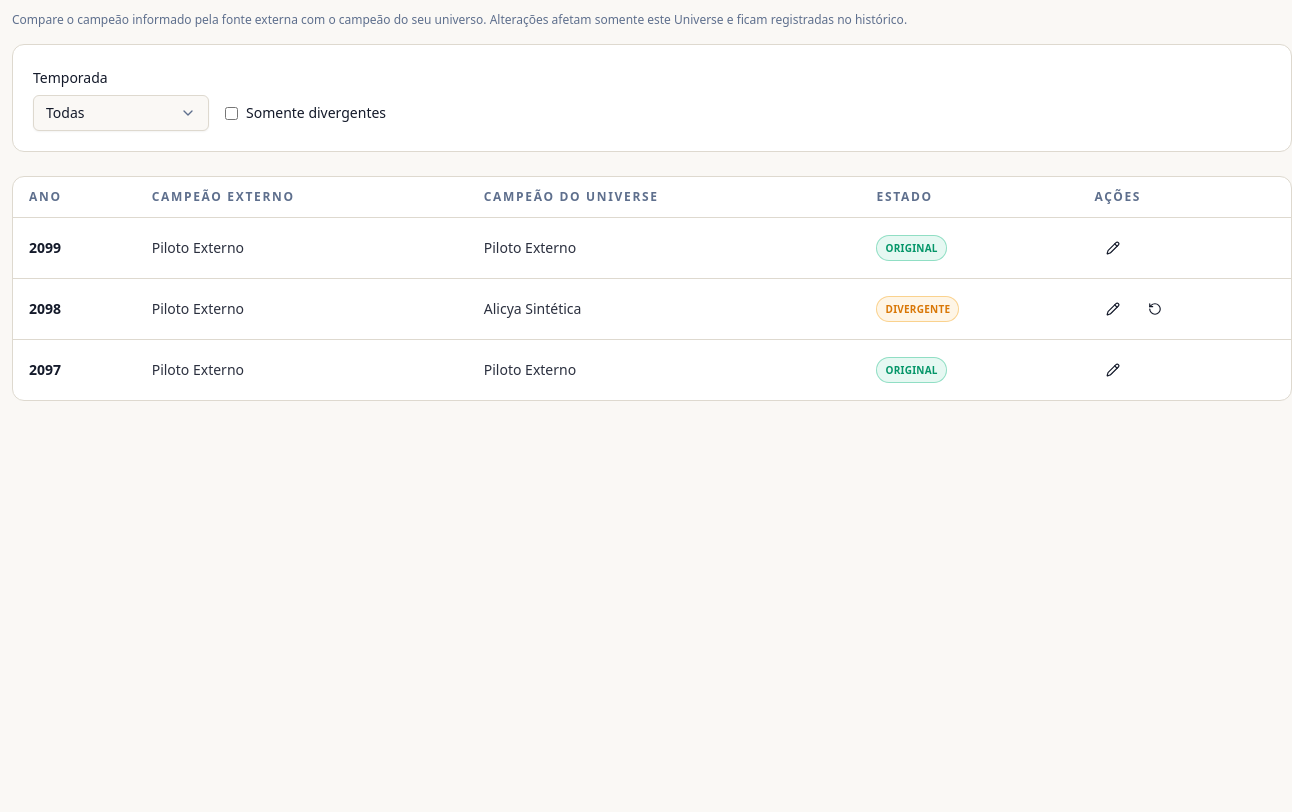
Test case: ChampionsPanel › 5) abre detalhe com histórico da temporada
Click the text "2098".
click(45, 308)  # box left=13, top=278, right=136, bottom=340
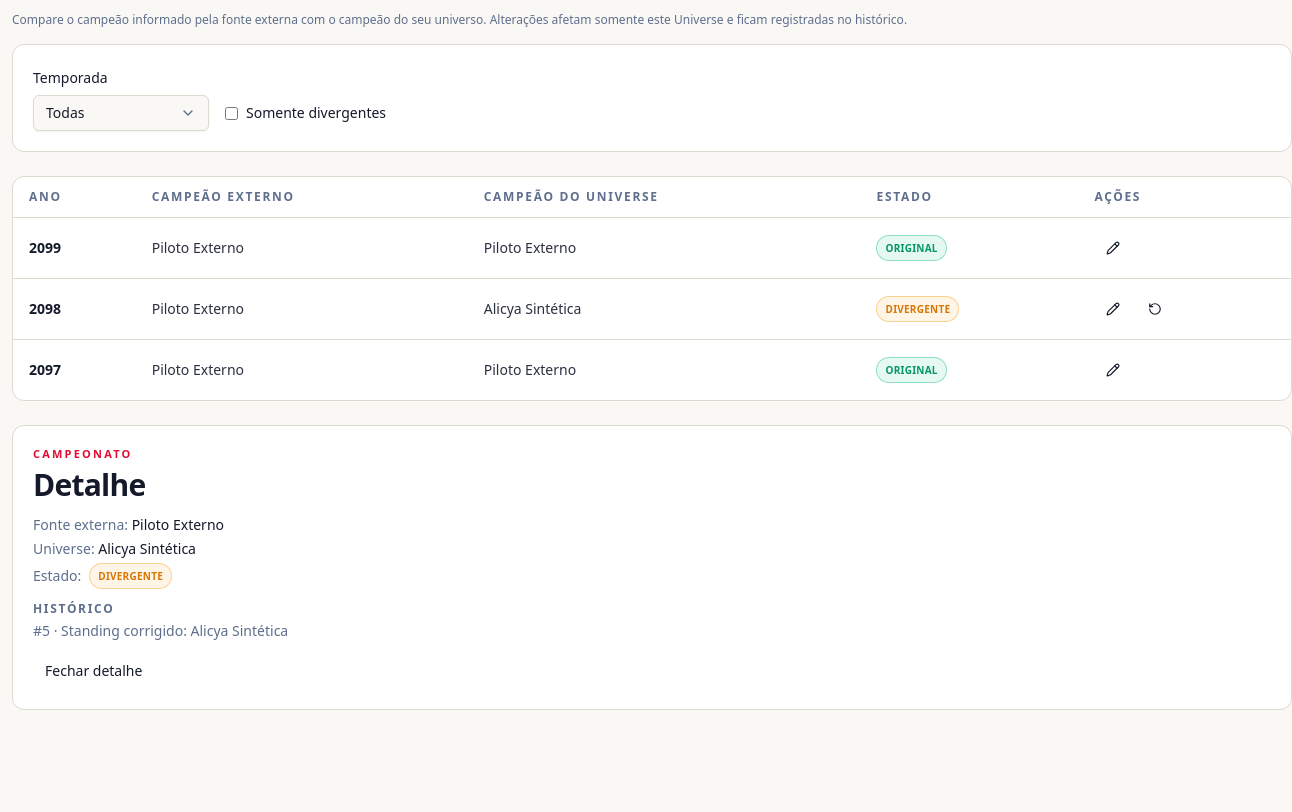
Expected: the list item "#5 · Standing corrigido: Alicya Sintética" is shown, left=33, top=620, right=288, bottom=640
